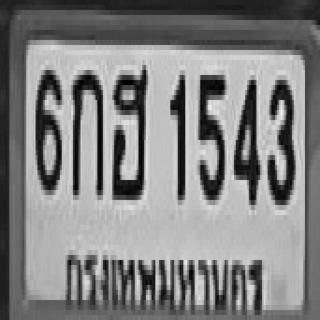A01: (71, 65, 101, 195)
A44: (110, 62, 146, 198)
N01: (168, 70, 184, 195)
N03: (266, 75, 294, 200)
N04: (232, 70, 258, 200)
N05: (197, 70, 224, 200)
N06: (34, 65, 60, 190)
P04: (61, 233, 269, 320)
